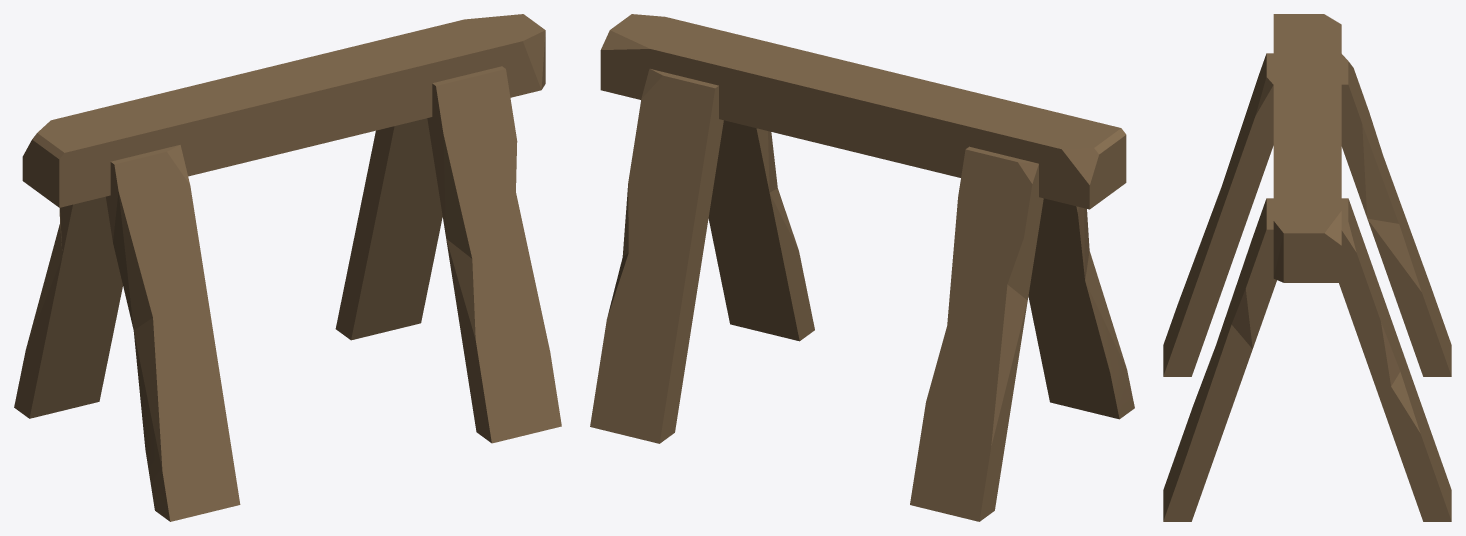
Rendered from SM_Prop_Saw_Horse_01.obj.
3 views of the same model, side by side, from view 1: azimuth 30°, elevation 25°; view 2: azimuth 150°, elevation 25°; view 3: azimuth 270°, elevation 25° (orthographic). The views are drawn at different scales.
Parts seen in each view (by area): view 1: SM_Prop_Saw_Horse_01_0; view 2: SM_Prop_Saw_Horse_01_0; view 3: SM_Prop_Saw_Horse_01_0.
Part boxes in pixels (x1=…): SM_Prop_Saw_Horse_01_0: x1=14, y1=14, x2=561, y2=521; SM_Prop_Saw_Horse_01_0: x1=590, y1=14, x2=1134, y2=521; SM_Prop_Saw_Horse_01_0: x1=1163, y1=14, x2=1451, y2=521.
Bounding box in the file's own units: 1.1 × 0.7205 × 0.6065.
Materials: 1 (1 with a texture image).
